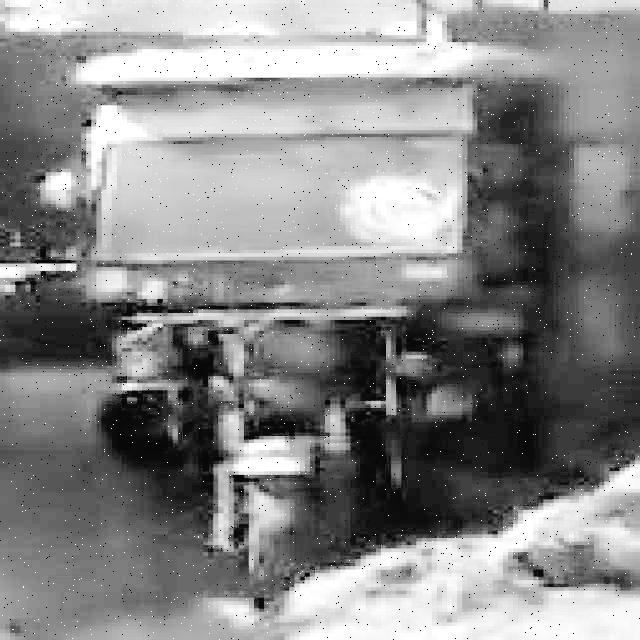Toto: (65, 37, 561, 593)
